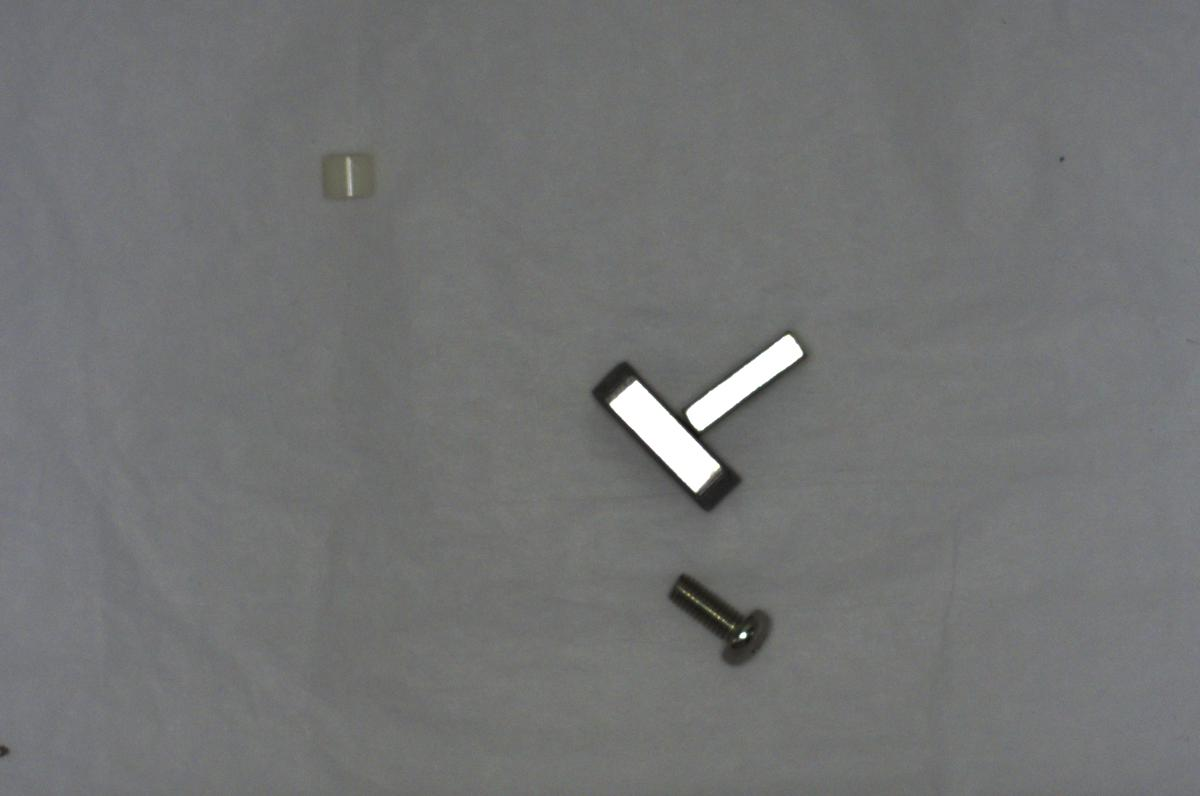Keybar: (585, 361, 741, 513)
Plastic cushion pillar: (308, 140, 388, 220)
Rectangular nut: (675, 323, 811, 430)
Round head screw: (661, 567, 778, 669)
